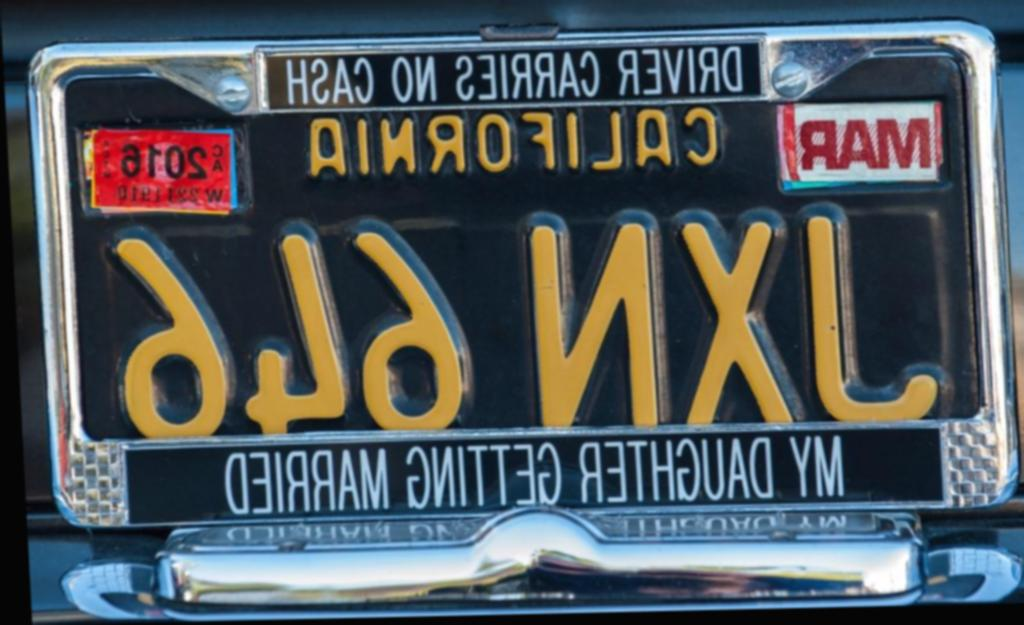License_Plate: (41, 32, 1017, 537)
